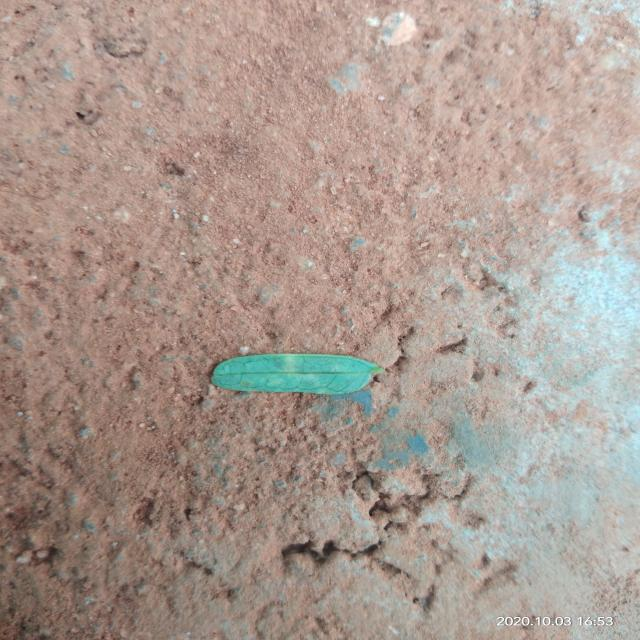tamarind: (212, 354, 383, 395)
